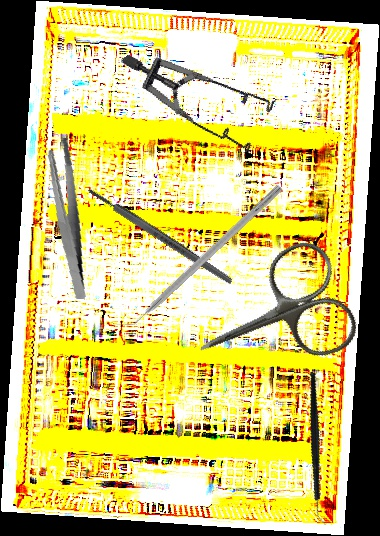Chopper: (111, 175, 285, 338), (265, 371, 372, 526)
Dressing Forceps: (30, 136, 106, 300)
Iris Scissors: (176, 233, 365, 402)
Scalpel Handle: (85, 185, 235, 287)
Speculum: (120, 2, 291, 184)
